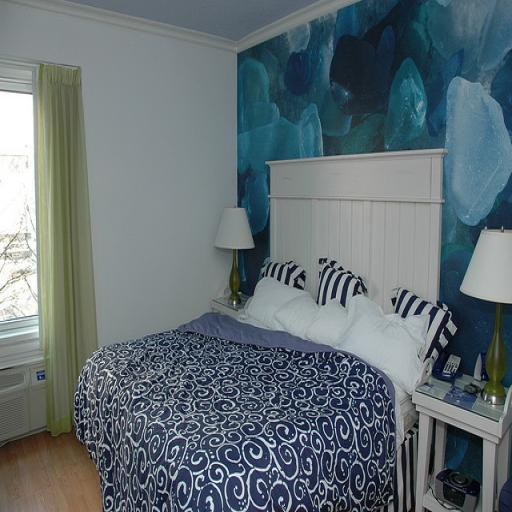bed: (77, 134, 457, 512)
